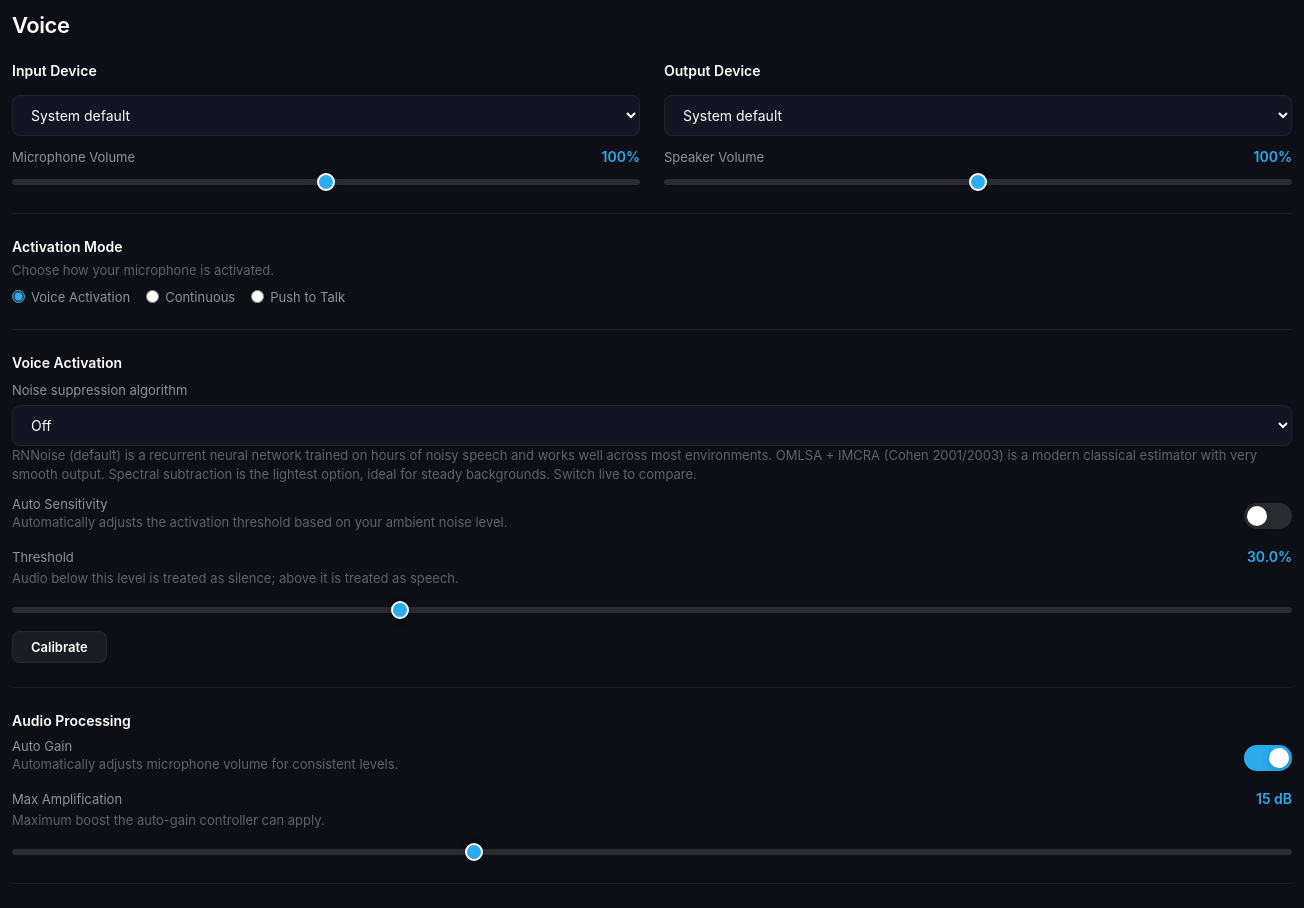
it: Calibrate › shows Stop button after starting
Click the button "Calibrate". click: (59, 646)
box: [12,630,107,662]
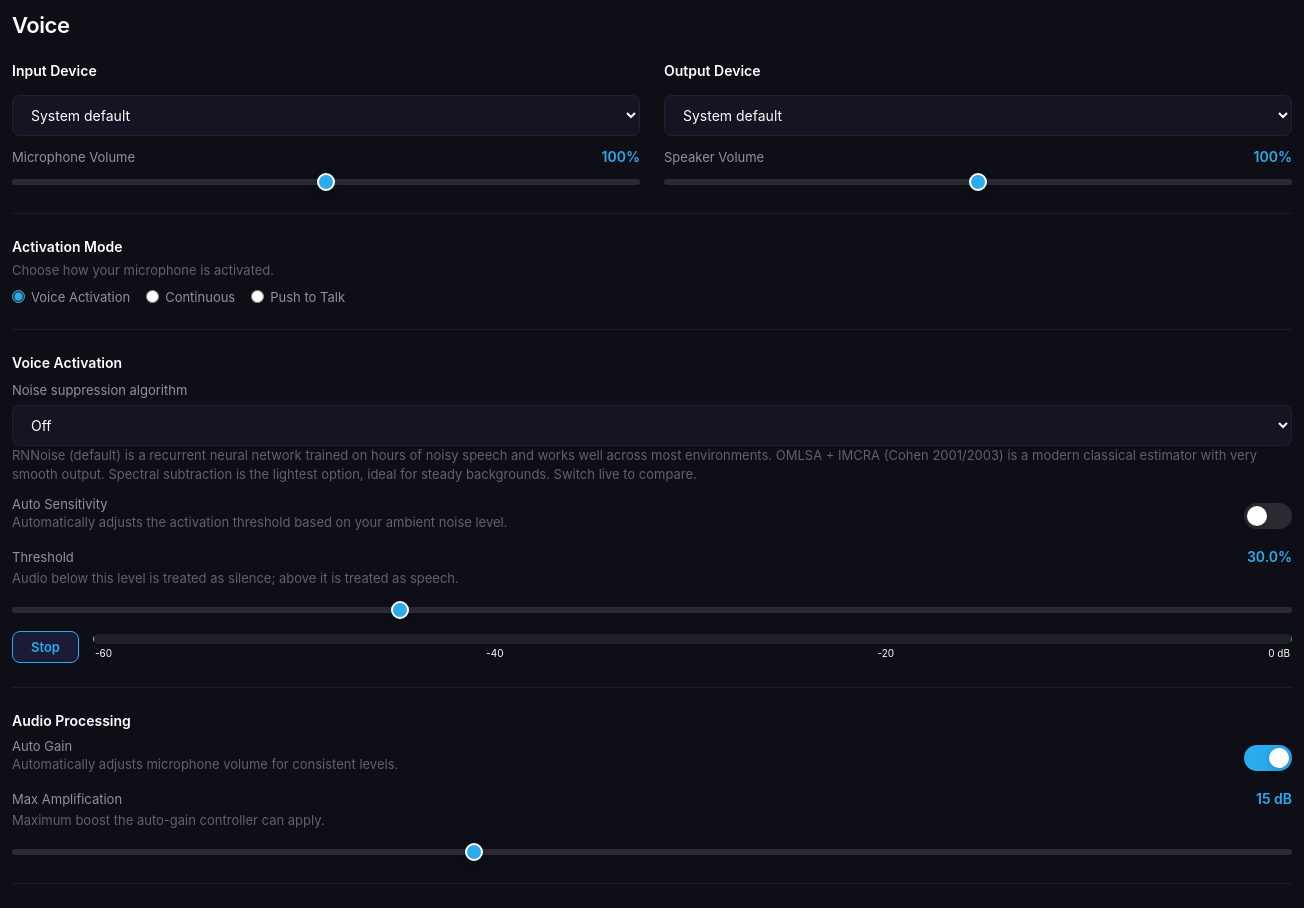
Expected: the button "Stop" is shown, [12,630,79,662]
